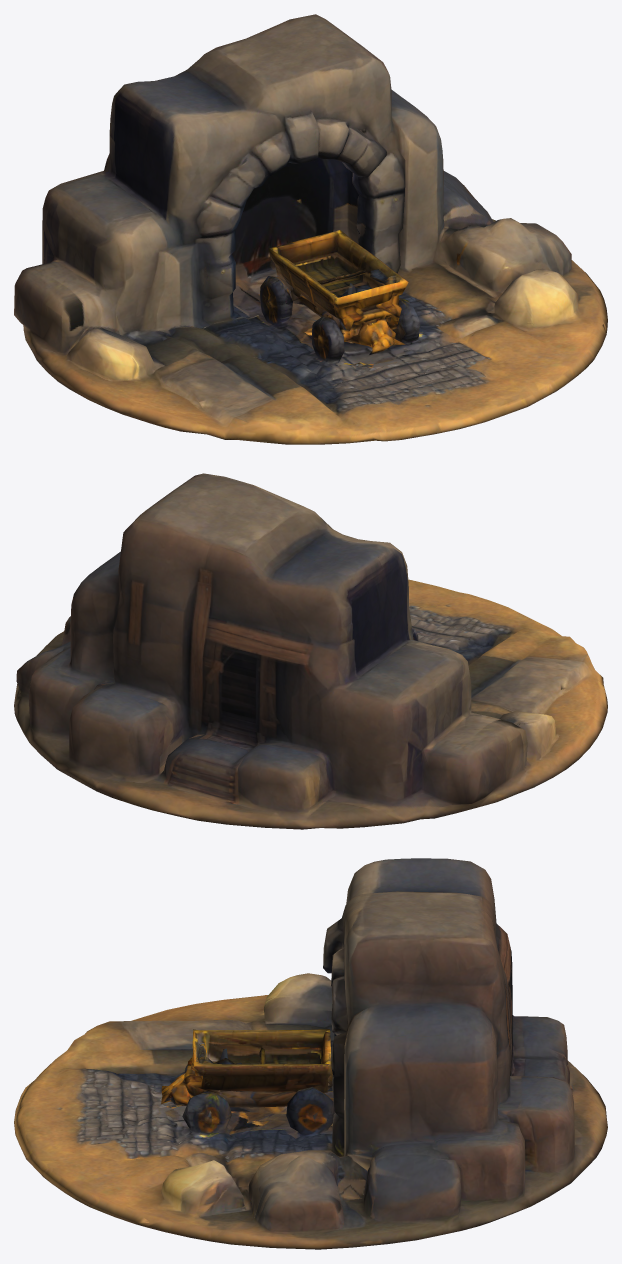
File: Metal_Mine.glb
3 renders of one model, top to bottom at view 1: azimuth 30°, elevation 25°; view 2: azimuth 150°, elevation 25°; view 3: azimuth 270°, elevation 25°, orthographic.
Parts seen in each view (by area): view 1: Mesh_0; view 2: Mesh_0; view 3: Mesh_0.
Part boxes in pixels (x1=…): Mesh_0: x1=14, y1=14, x2=607, y2=444; Mesh_0: x1=14, y1=473, x2=607, y2=829; Mesh_0: x1=14, y1=858, x2=607, y2=1249.
Bounding box in the file's own units: 0.4627 × 0.2 × 0.4611.
1 material, 1 textured.
